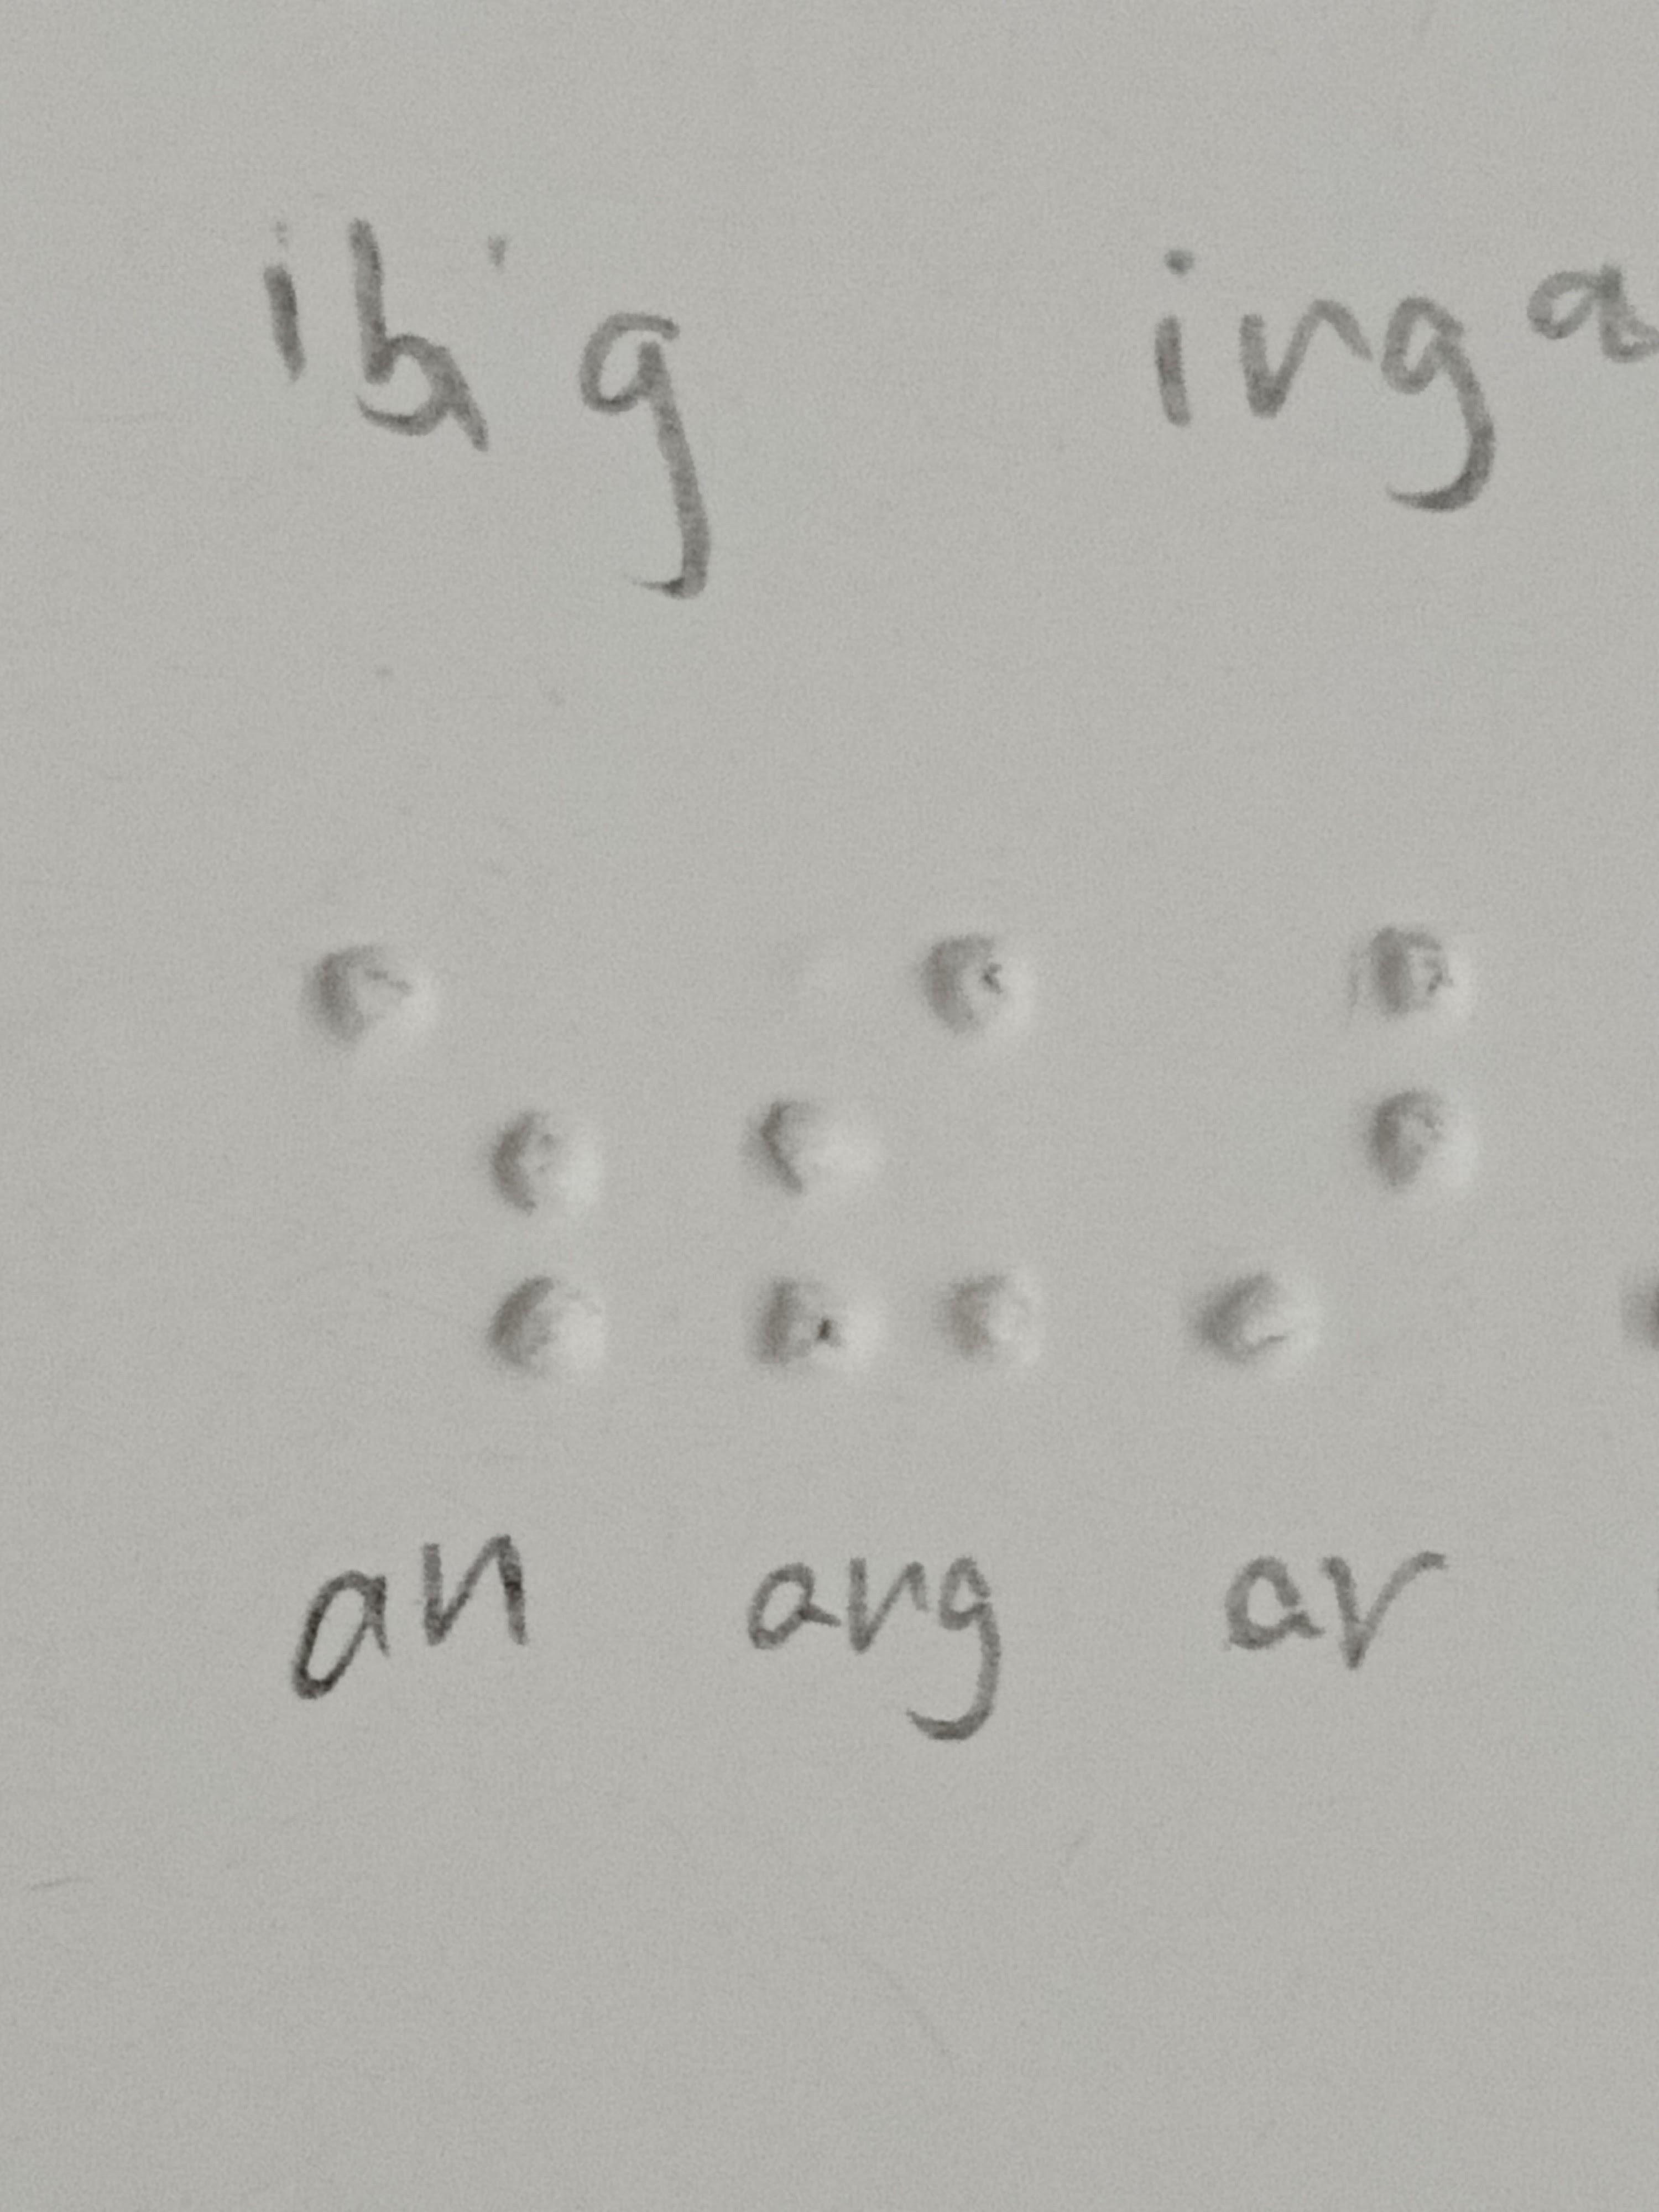one_cell_part_word_an: (310, 920, 598, 1400)
one_cell_part_word_ang: (758, 930, 1053, 1379)
one_cell_part_word_ar: (1201, 914, 1469, 1397)
